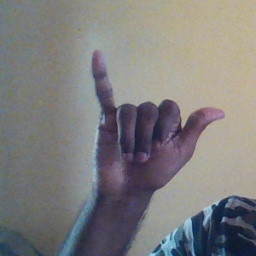J: (84, 48, 227, 194)
